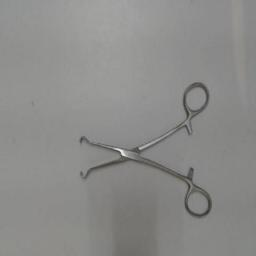Babcock Tissue Forceps: (75, 78, 215, 224)
